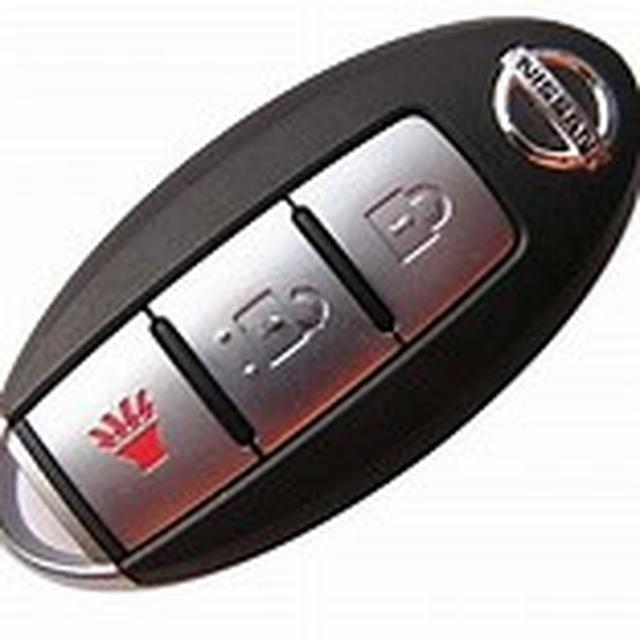key: (26, 19, 602, 582)
